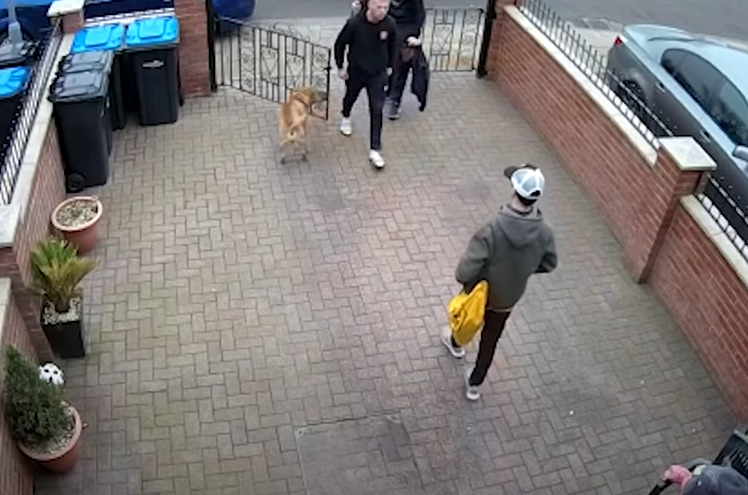person: (439, 162, 561, 403), (330, 1, 391, 170)
